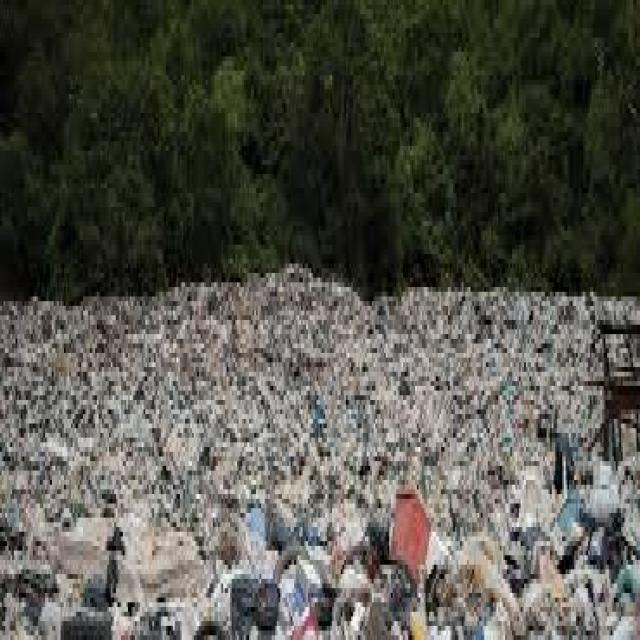heap: (81, 307, 594, 589)
